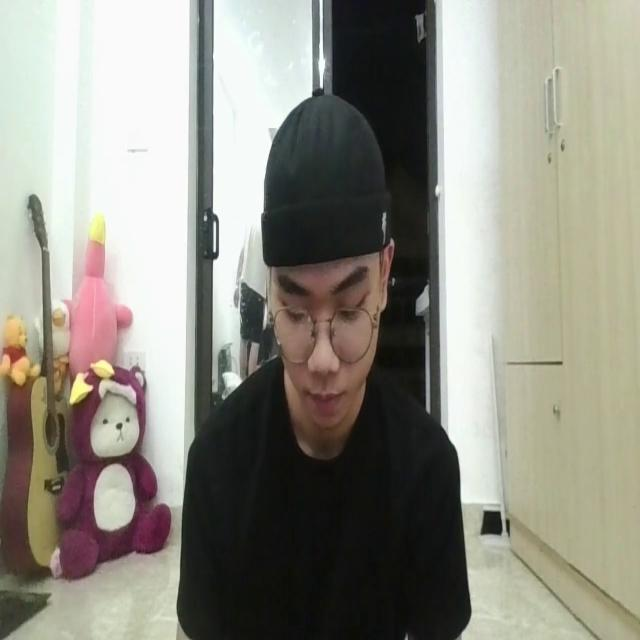student: (174, 89, 469, 640)
